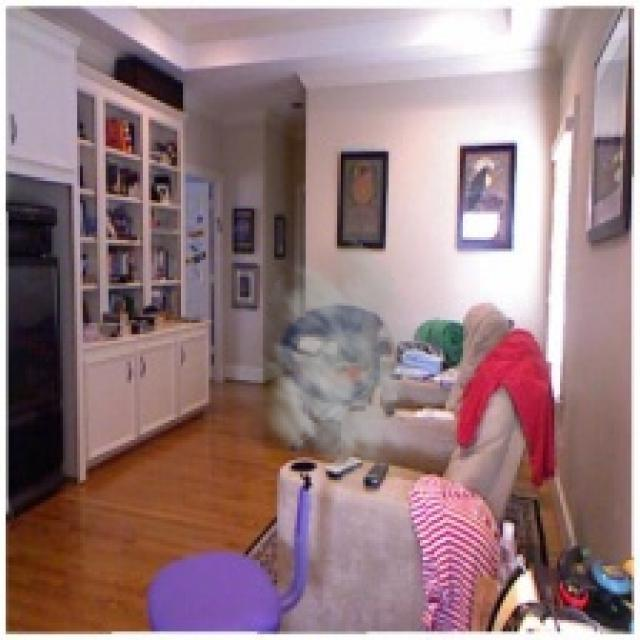Smoke: (232, 226, 432, 494)
